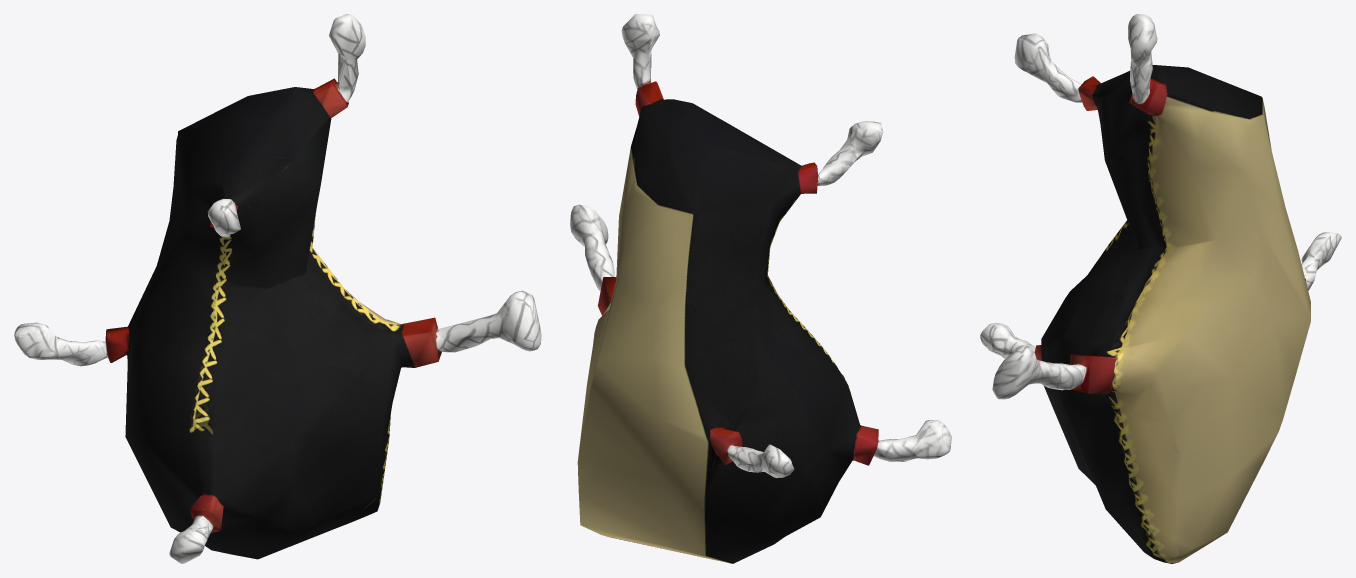
The model's file is serke.glb.
3 renders of one model, left to right at view 1: azimuth 30°, elevation 25°; view 2: azimuth 150°, elevation 25°; view 3: azimuth 270°, elevation 25°, orthographic. The views are drawn at different scales.
Parts seen in each view (by area): view 1: Mesh1.0; view 2: Mesh1.0; view 3: Mesh1.0.
Boxes of the visible parts, <box> form: Mesh1.0: <box>14,14,541,563</box>; Mesh1.0: <box>570,14,951,563</box>; Mesh1.0: <box>980,14,1341,563</box>.
Bounding box in the file's own units: 1.42 × 1.9 × 1.16.
Materials: 1 (1 with a texture image).
